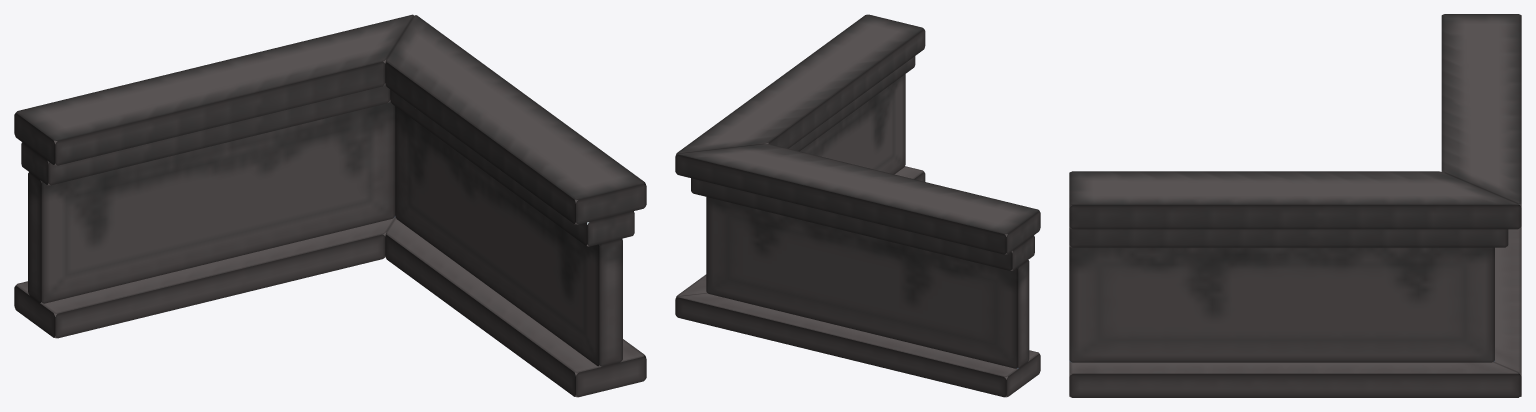
The model's file is rail2.obj.
3 renders of one model, left to right at view 1: azimuth 30°, elevation 25°; view 2: azimuth 150°, elevation 25°; view 3: azimuth 270°, elevation 25°, orthographic. The views are drawn at different scales.
Parts seen in each view (by area): view 1: cuboid; view 2: cuboid; view 3: cuboid.
Boxes of the visible parts, x1,y1,x2,y2 form: cuboid: (14,14,646,397); cuboid: (675,14,1040,397); cuboid: (1069,14,1521,397).
Size of the model in its own units: 1.06 by 0.5 by 1.06.
1 material, 1 textured.
